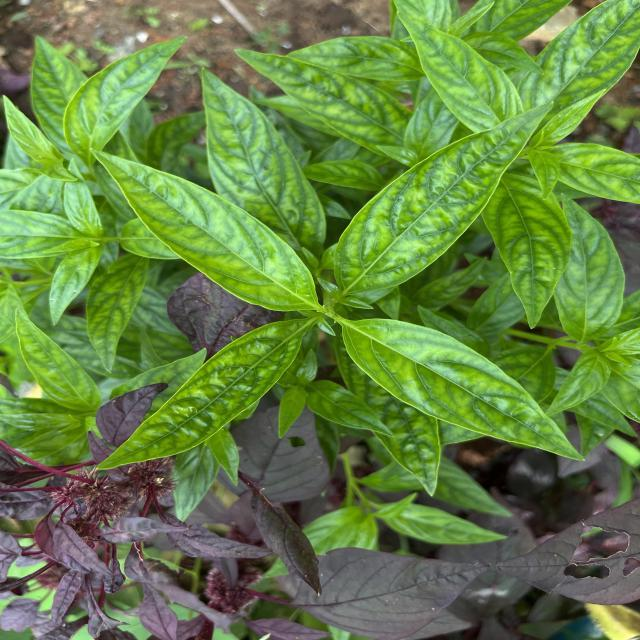Andrographis paniculata: (334, 101, 556, 301), (332, 311, 586, 464), (89, 147, 320, 313), (96, 316, 314, 472), (185, 64, 329, 246), (61, 33, 190, 167), (227, 45, 389, 141), (394, 8, 517, 130), (486, 170, 569, 332), (12, 304, 101, 412), (559, 196, 625, 332), (84, 250, 150, 373)
